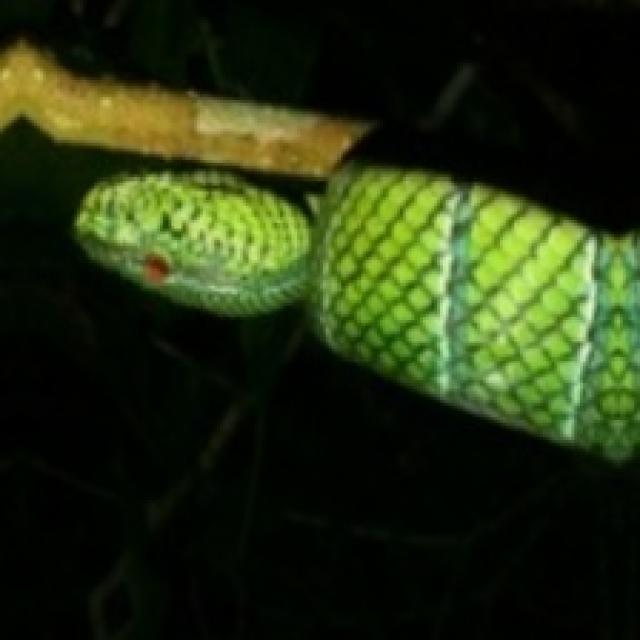north ph temple pitviper: (0, 43, 637, 457), (74, 166, 637, 457)
